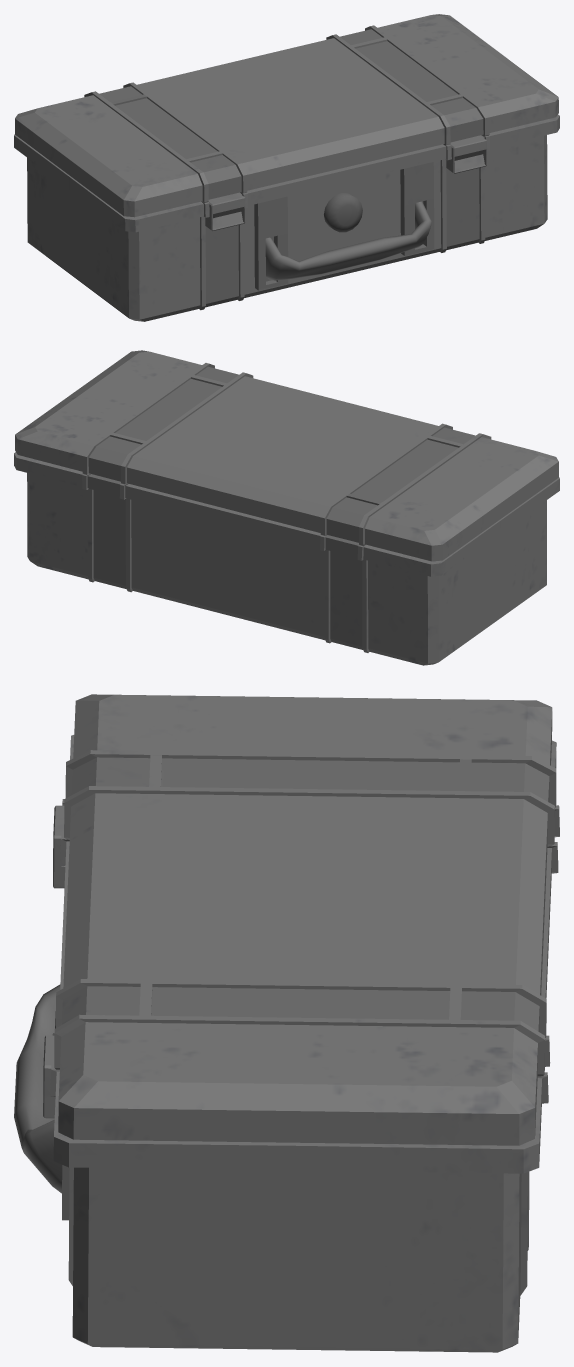
The model's file is pelicanCase00.fbx.
3 views of the same model, one above another, from view 1: azimuth 30°, elevation 25°; view 2: azimuth 150°, elevation 25°; view 3: azimuth 270°, elevation 25° (orthographic). The views are drawn at different scales.
Visible parts, largest first — view 1: PelicanCase.001; view 2: PelicanCase.001; view 3: PelicanCase.001.
Boxes of the visible parts, x1=… form: PelicanCase.001: x1=14, y1=14, x2=559, y2=321; PelicanCase.001: x1=14, y1=350, x2=559, y2=665; PelicanCase.001: x1=14, y1=694, x2=559, y2=1352.
Size of the model in its own units: 2.23 by 0.68 by 1.23.
Materials: 1 (1 with a texture image).
